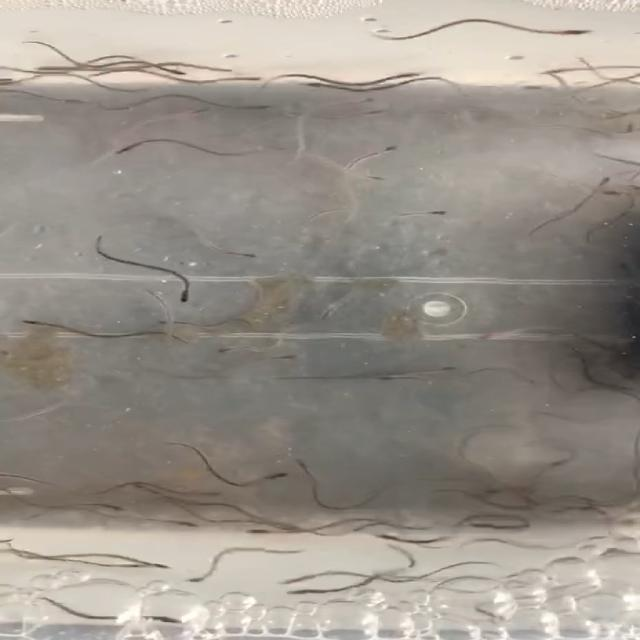active_glass_eel: (547, 24, 604, 41), (537, 61, 583, 79), (104, 142, 146, 160), (331, 93, 378, 108), (39, 95, 88, 109), (173, 106, 214, 122), (241, 468, 295, 480), (282, 455, 314, 475), (118, 478, 153, 496), (365, 142, 404, 158), (149, 614, 190, 629), (360, 530, 403, 544), (373, 369, 419, 382), (464, 329, 499, 346), (349, 170, 391, 184), (240, 522, 282, 536), (584, 174, 616, 192), (194, 486, 232, 501), (87, 502, 127, 516), (542, 455, 579, 470), (212, 345, 254, 358), (163, 517, 205, 530), (414, 208, 459, 220), (507, 82, 548, 95), (134, 287, 166, 303), (224, 249, 262, 262), (237, 102, 275, 114), (274, 575, 312, 587), (312, 306, 340, 322), (15, 316, 49, 329), (288, 586, 332, 596), (157, 66, 192, 78), (398, 554, 424, 570), (28, 64, 73, 73), (261, 352, 297, 363), (606, 187, 636, 199), (422, 364, 458, 374), (138, 559, 174, 569), (154, 315, 186, 326), (180, 573, 212, 584), (235, 74, 272, 83), (173, 286, 192, 303), (348, 108, 387, 116), (302, 81, 330, 91), (475, 488, 500, 498)
